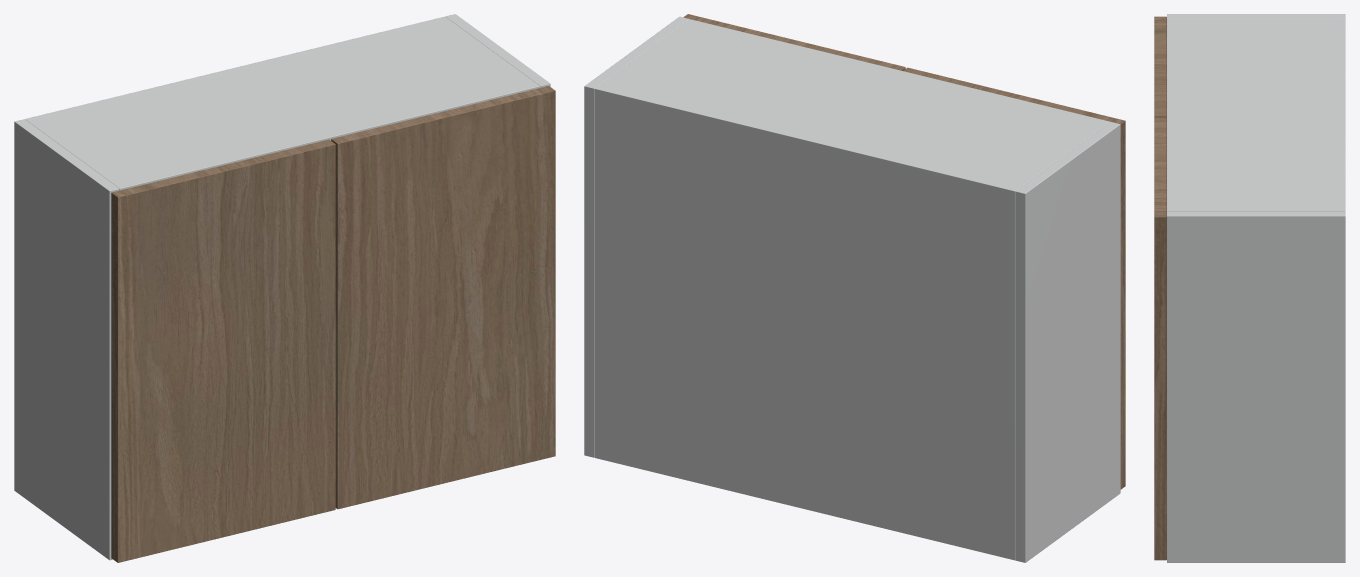
Rendered from oppein-pb-mnw-w3024.glb.
3 renders of one model, left to right at view 1: azimuth 30°, elevation 25°; view 2: azimuth 150°, elevation 25°; view 3: azimuth 270°, elevation 25°, orthographic. The views are drawn at different scales.
Parts seen in each view (by area): view 1: Door, Door.001, Cabinet top, Cabinet side, Cabinet back, Cabinet side.001; view 2: Cabinet back, Cabinet top, Cabinet side, Cabinet side.001, Door, Door.001; view 3: Cabinet side.001, Cabinet top, Door.001, Cabinet back, Door, Cabinet side.
Boxes of the visible parts, box(x1,y1,x2,y2) form: Door: box(111, 139, 335, 562); Door.001: box(331, 86, 555, 509); Cabinet top: box(26, 16, 540, 190); Cabinet side: box(14, 119, 119, 560); Cabinet back: box(25, 16, 448, 121); Cabinet side.001: box(445, 14, 550, 87); Cabinet back: box(595, 86, 1018, 560); Cabinet top: box(595, 19, 1109, 201); Cabinet side: box(1015, 121, 1120, 562); Cabinet side.001: box(584, 16, 689, 457); Door: box(903, 67, 1125, 489); Door.001: box(683, 14, 905, 70); Cabinet side.001: box(1167, 211, 1345, 562); Cabinet top: box(1167, 18, 1345, 211); Door.001: box(1154, 117, 1166, 560); Cabinet back: box(1338, 18, 1345, 211); Door: box(1154, 16, 1166, 117); Cabinet side: box(1167, 14, 1345, 18).
Bounding box in the file's own units: 0.762 × 0.6096 × 0.3048.
Materials: 2 (1 with a texture image).
